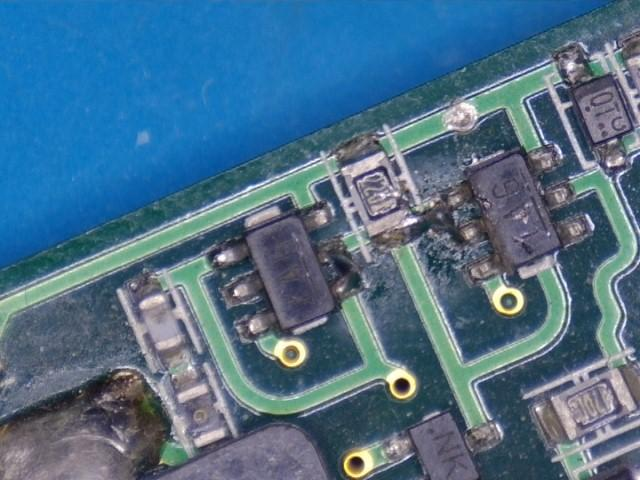Short_circuit: (367, 181, 490, 249), (314, 235, 366, 302)
